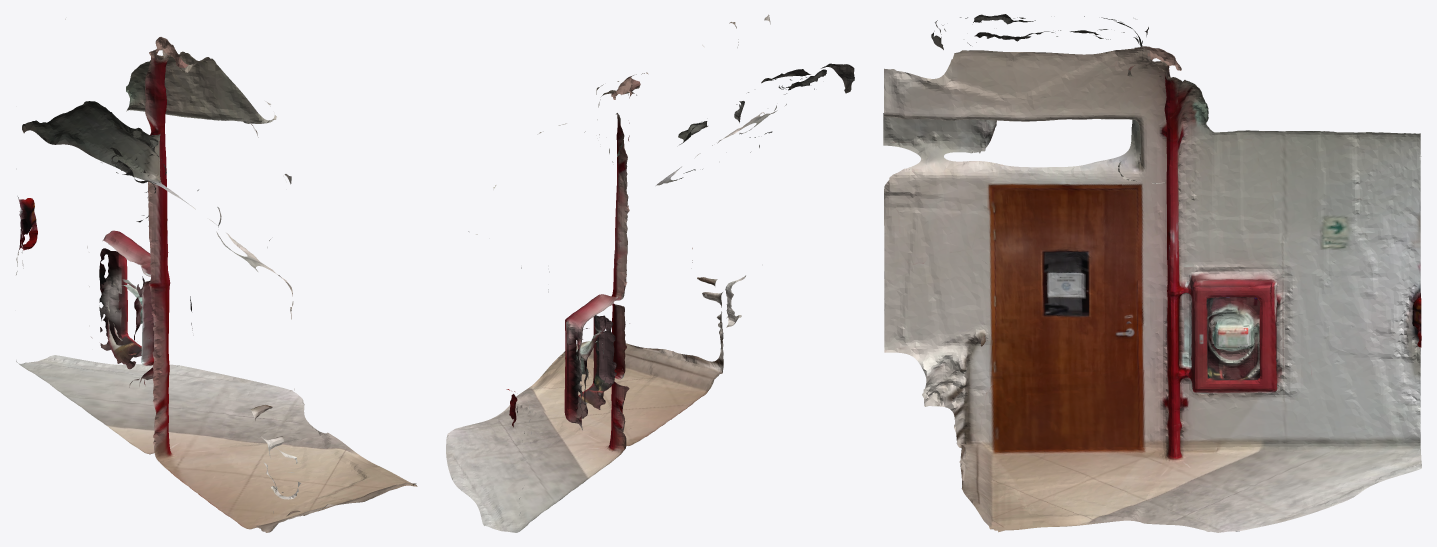
3 views of the same model, side by side, from view 1: azimuth 30°, elevation 25°; view 2: azimuth 150°, elevation 25°; view 3: azimuth 270°, elevation 25° (orthographic). The views are drawn at different scales.
Size of the model in its own units: 2.86 by 3.68 by 4.41.
Materials: 1 (1 with a texture image).
